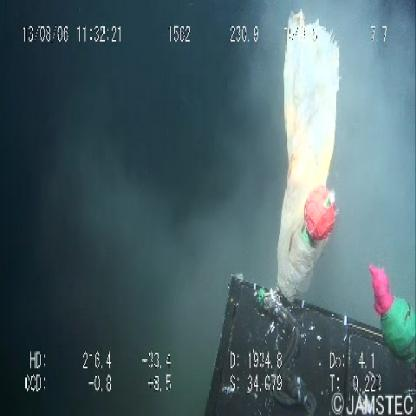Rov: (193, 254, 416, 414)
Rác: (275, 3, 345, 314)
